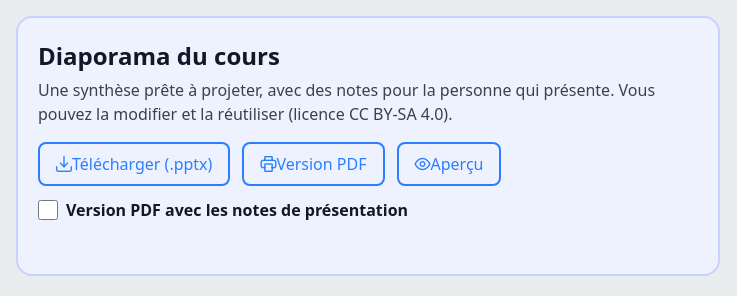
Scenario: DiaporamaActions › signale un échec sans bloquer les boutons
Click the button with test id "diaporama-pptx" at (134, 164), box [38,142,230,186]
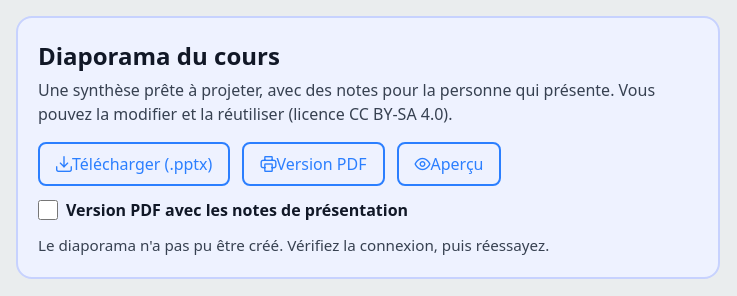
Expected: the message "Le diaporama n'a pas pu être créé. Vérifiez la connexion, puis réessayez." is shown, [38,235,549,255]
